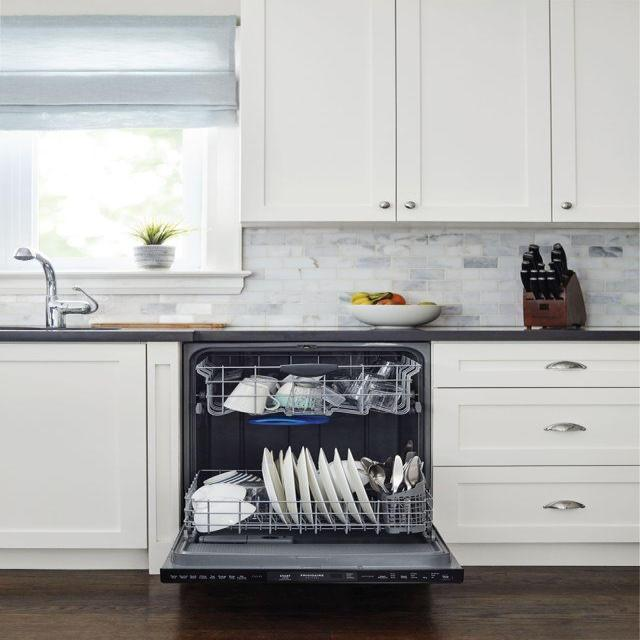dishwasher: (160, 333, 473, 592)
